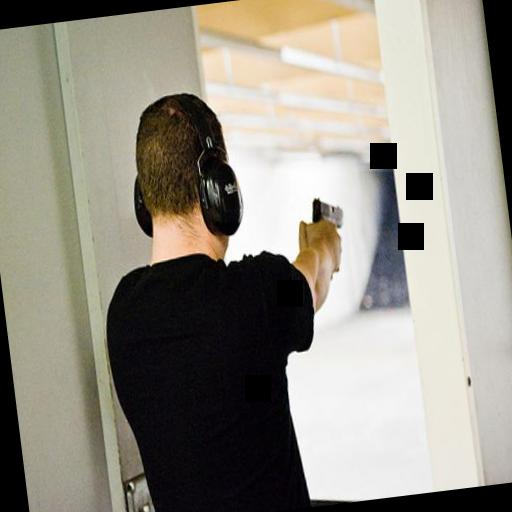Handgun: (307, 192, 346, 245)
